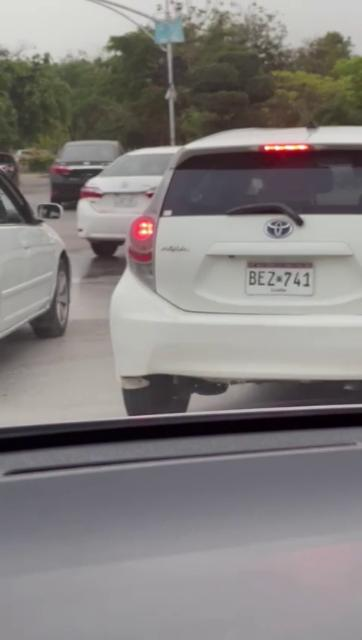plate: (245, 260, 319, 296)
